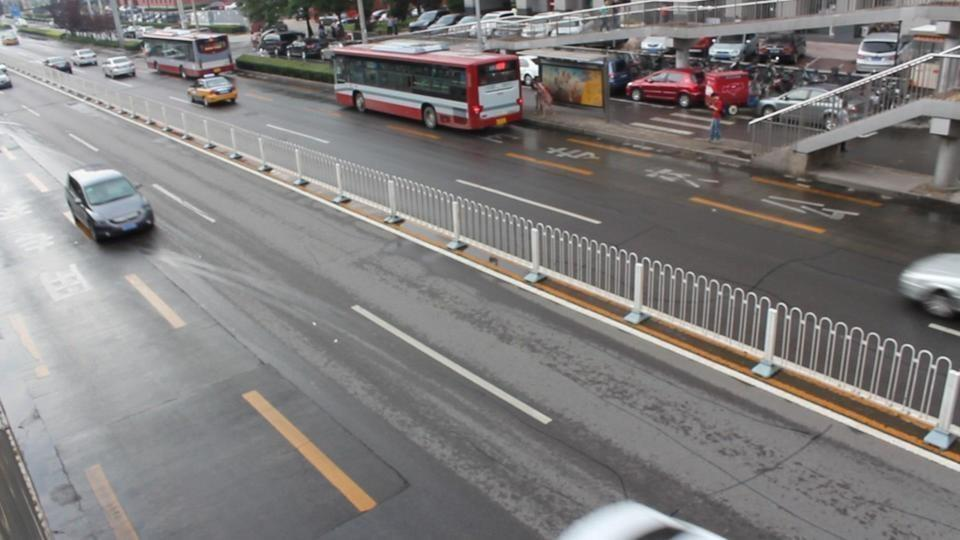car: (63, 162, 156, 243), (896, 251, 960, 319), (624, 68, 717, 109), (756, 85, 849, 124), (634, 39, 688, 91), (855, 32, 911, 73), (742, 32, 808, 64), (705, 33, 757, 66), (409, 11, 480, 35), (186, 74, 239, 106), (261, 34, 325, 58), (639, 36, 676, 65), (101, 54, 135, 80), (43, 55, 74, 74), (71, 48, 98, 68), (0, 65, 12, 90)
